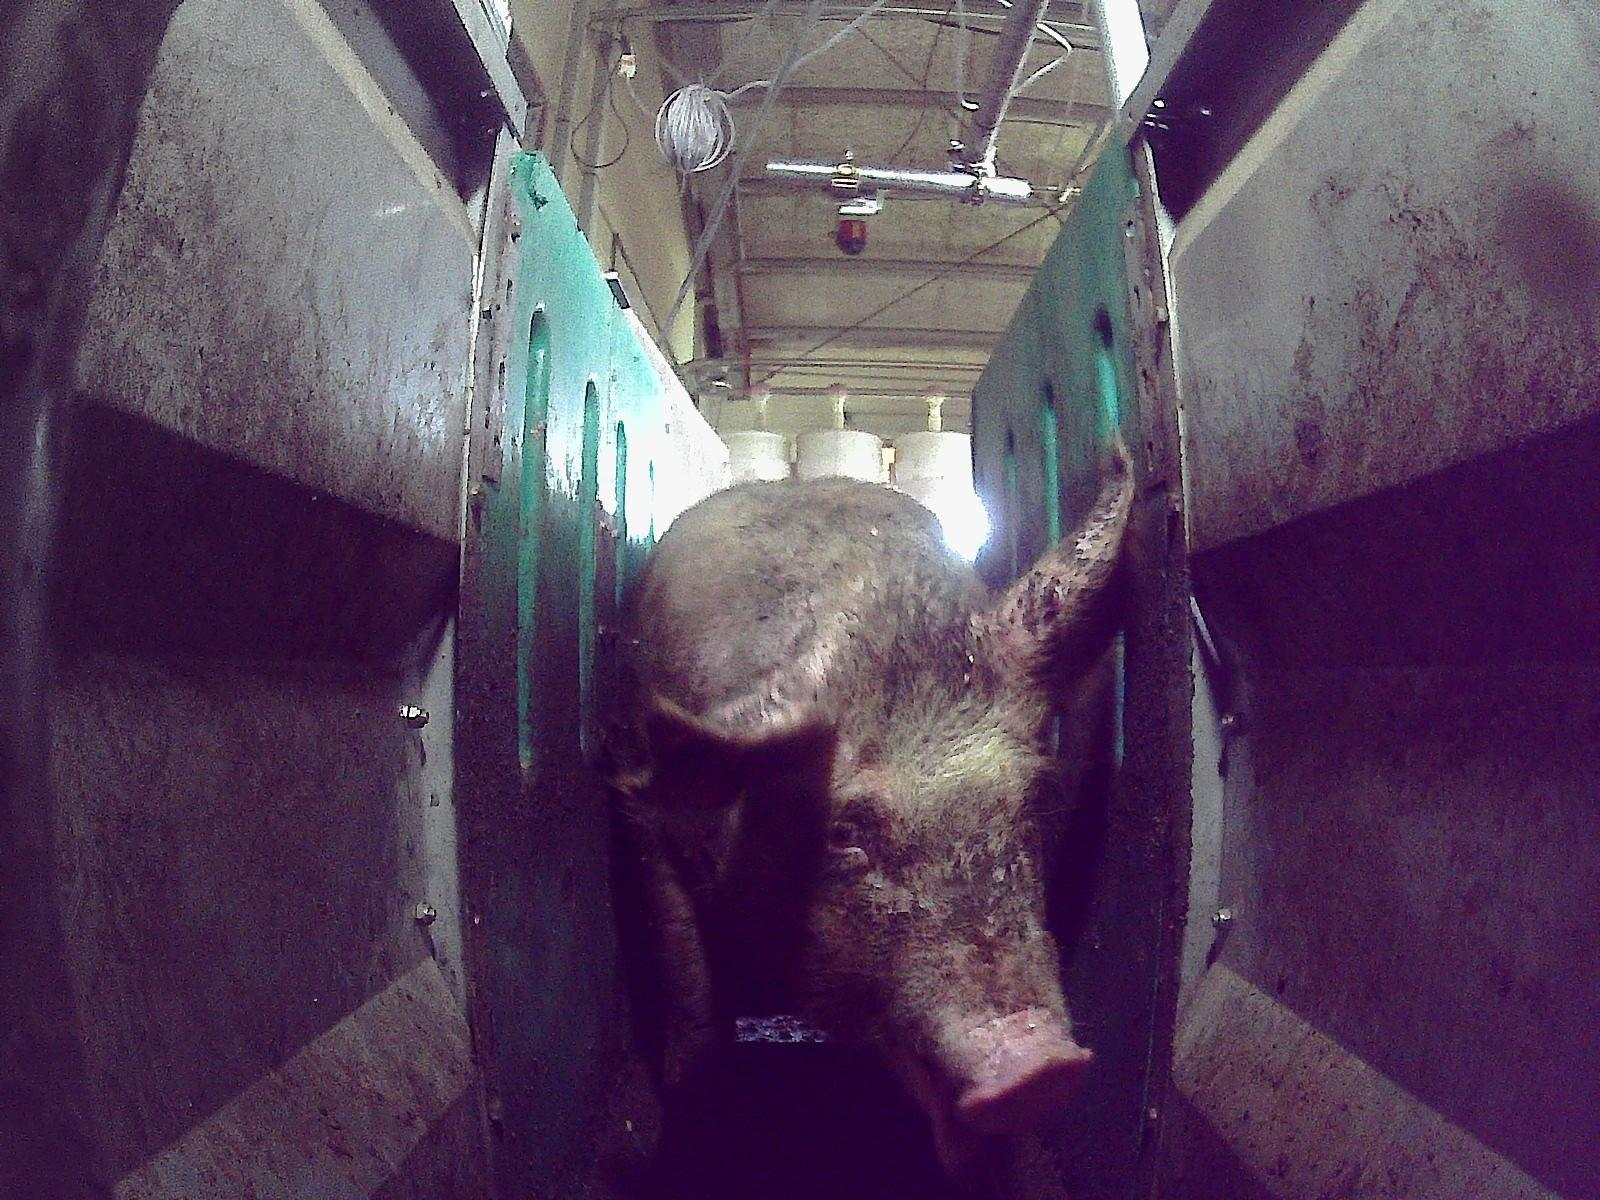Face: (707, 613, 1090, 1174)
